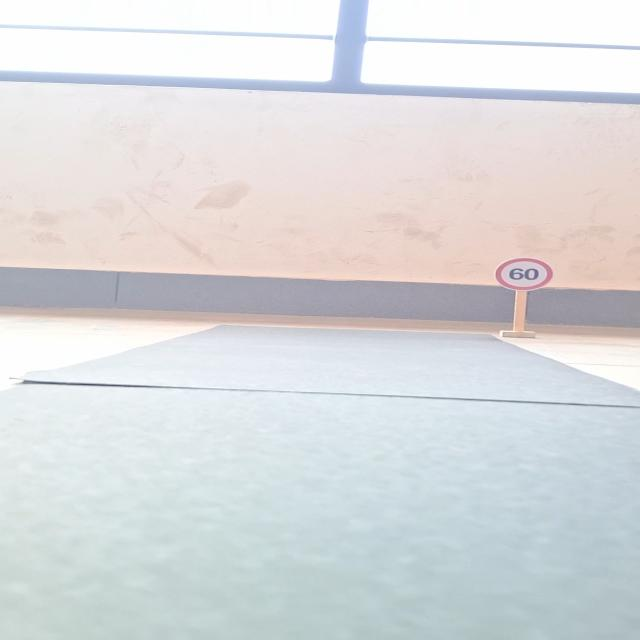Speed60: (491, 257, 555, 292)
